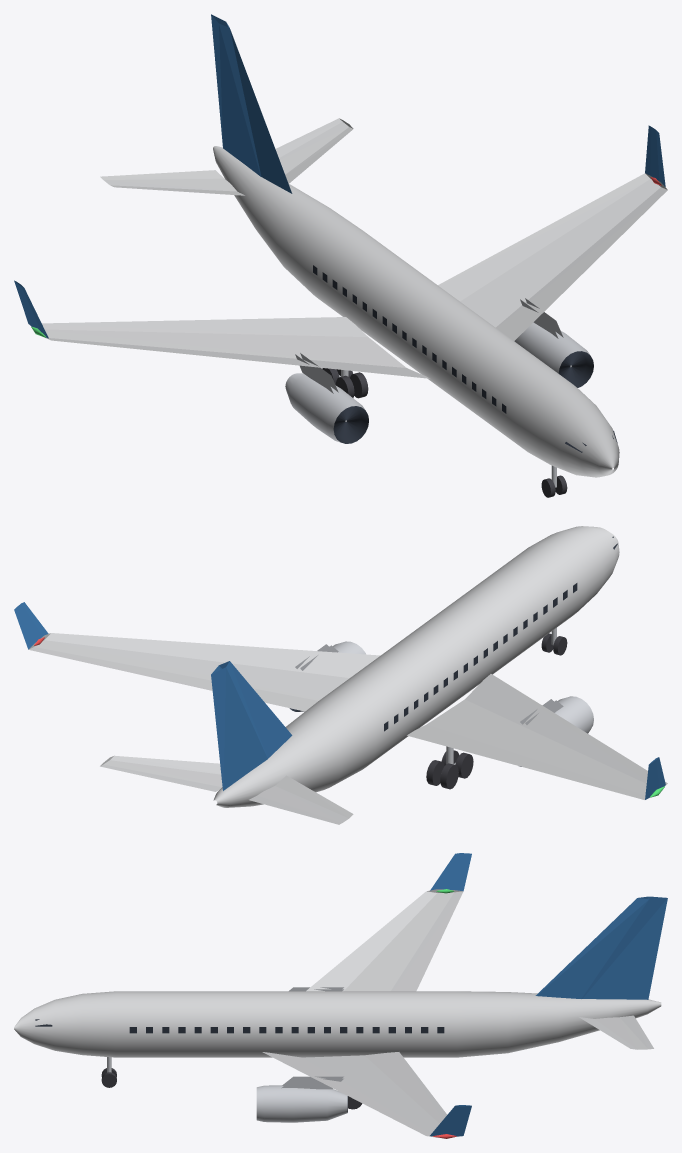
3 renders of one model, top to bottom at view 1: azimuth 30°, elevation 25°; view 2: azimuth 150°, elevation 25°; view 3: azimuth 270°, elevation 25°, orthographic. The views are drawn at different scales.
Parts seen in each view (by area): view 1: airliner, gear; view 2: airliner, gear; view 3: airliner, gear.
Part boxes in pixels (bbox=[...]): airliner: bbox=[14, 14, 667, 477]; gear: bbox=[322, 368, 567, 497]; airliner: bbox=[14, 526, 667, 824]; gear: bbox=[426, 628, 567, 789]; airliner: bbox=[14, 853, 667, 1138]; gear: bbox=[101, 1057, 362, 1109].
Bounding box in the file's own units: 35 × 12.1 × 38.4.
